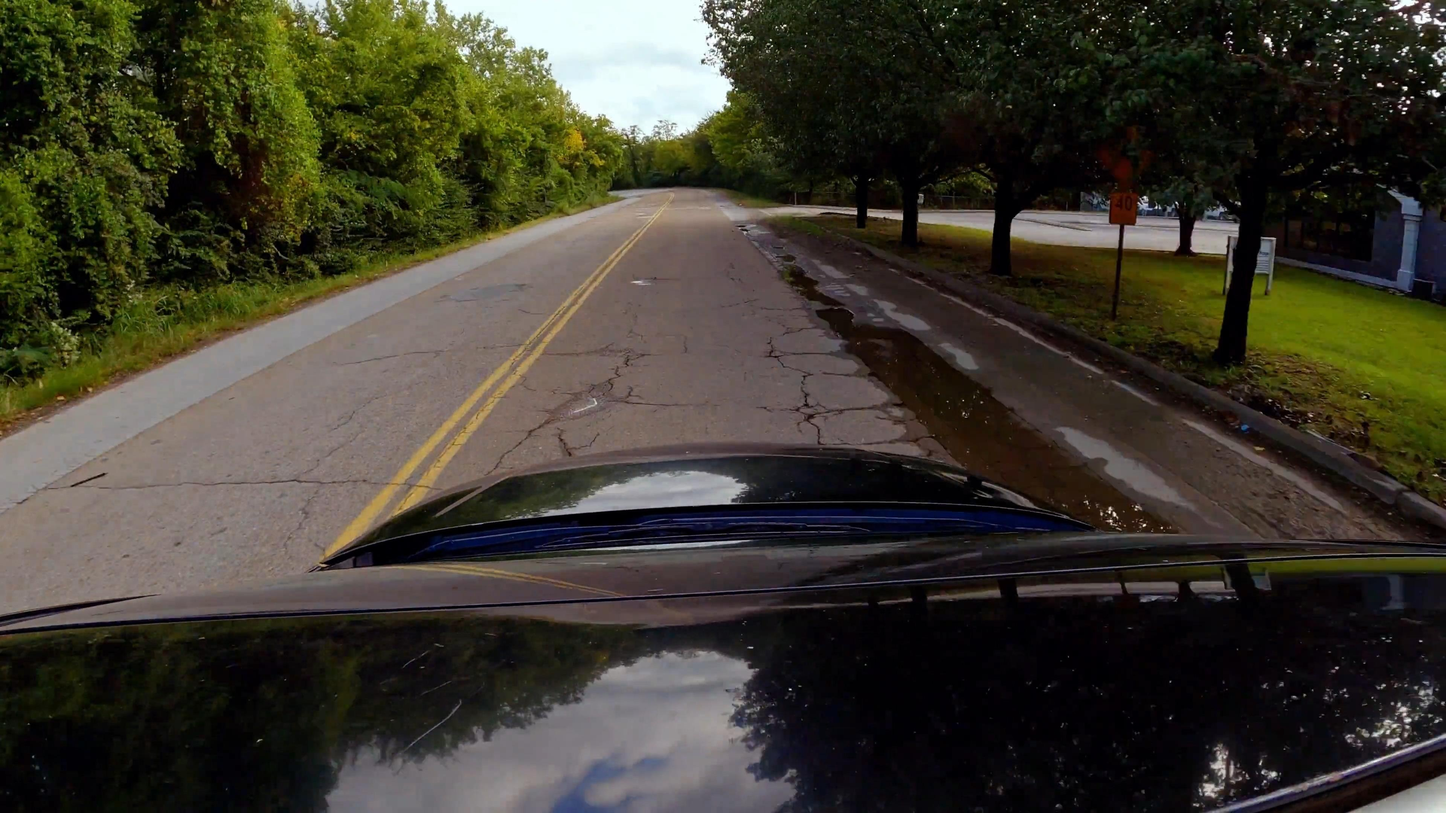dry: (0, 188, 944, 615)
wet: (738, 223, 1196, 535)
